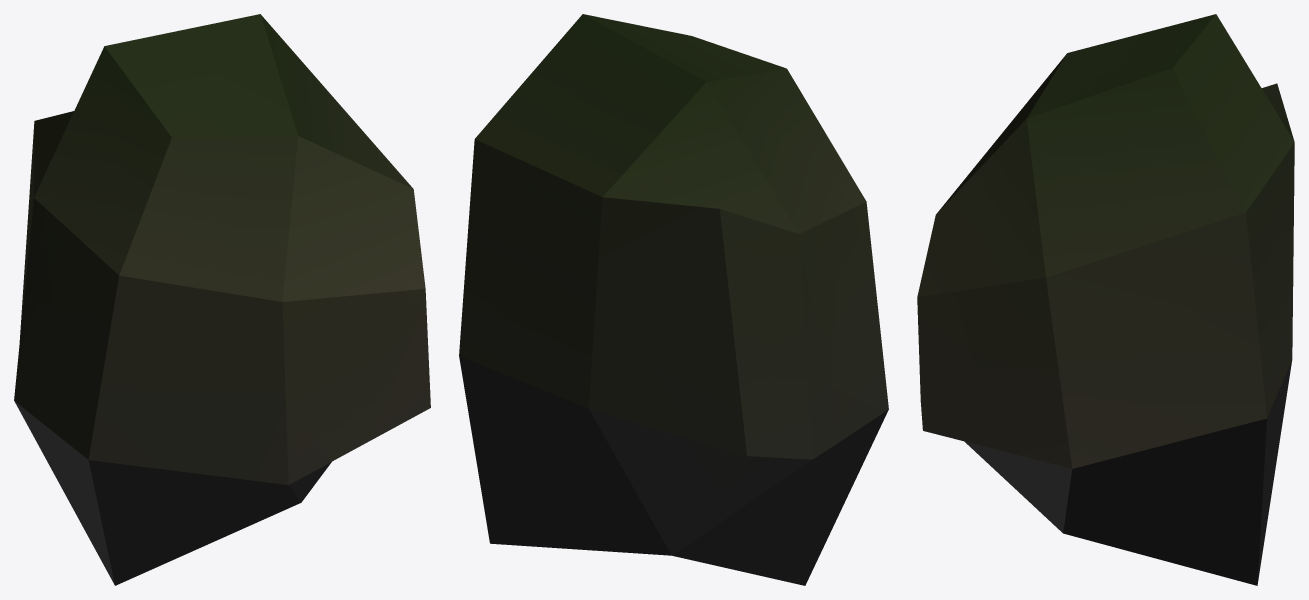
Rendered from Rock_2.fbx.
The picture shows the model from 3 angles, left to right: view 1: azimuth 30°, elevation 25°; view 2: azimuth 150°, elevation 25°; view 3: azimuth 270°, elevation 25°; orthographic projection. The views are drawn at different scales.
Visible parts, largest first — view 1: pCube26; view 2: pCube26; view 3: pCube26.
Boxes of the visible parts, left/top/right/bottom form: pCube26: left=14, top=14, right=430, bottom=585; pCube26: left=459, top=14, right=888, bottom=585; pCube26: left=917, top=14, right=1294, bottom=585.
Size of the model in its own units: 193 by 280 by 180.
